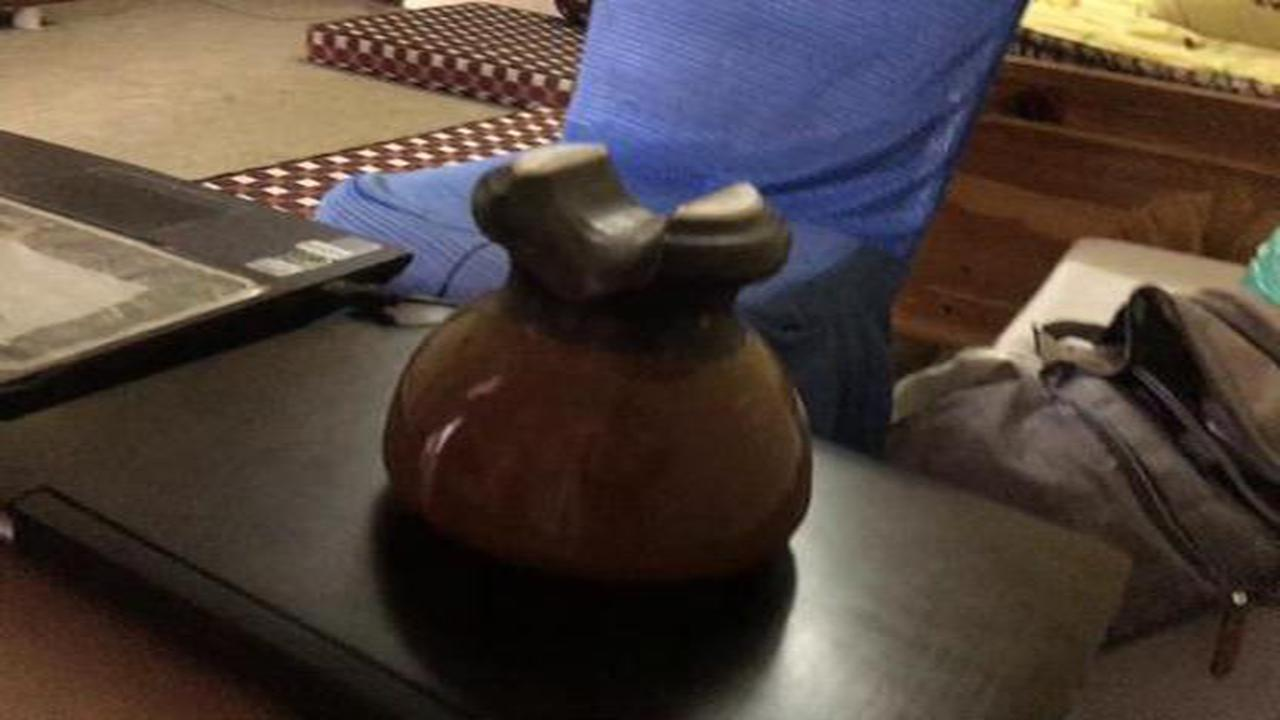insulator_pin: (360, 130, 844, 608)
